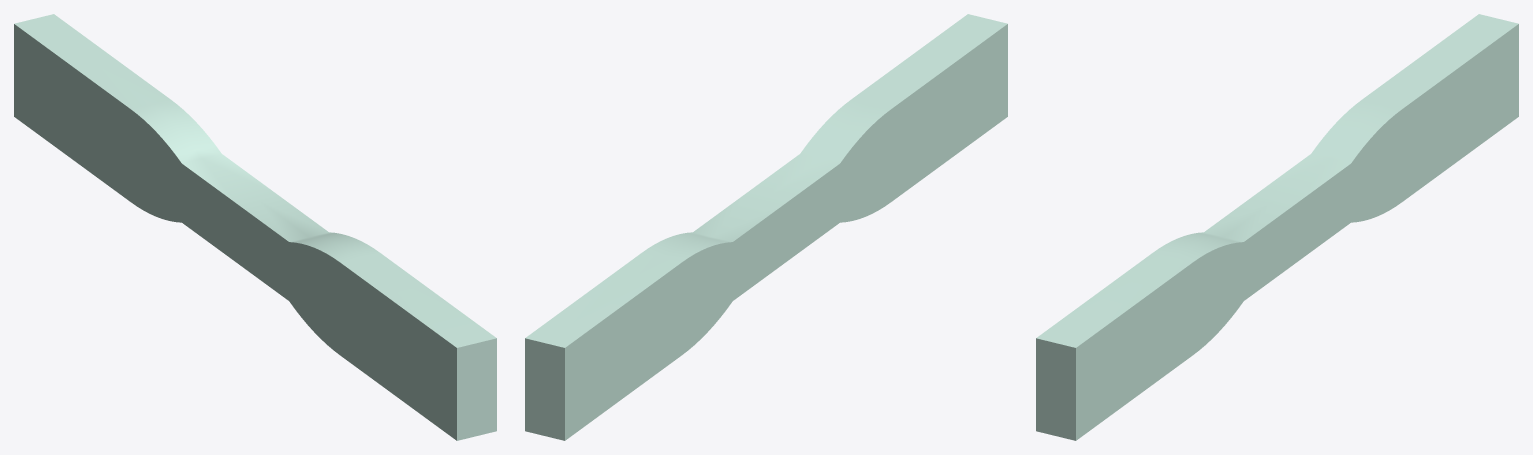
The picture shows the model from 3 angles, left to right: view 1: azimuth 30°, elevation 25°; view 2: azimuth 150°, elevation 25°; view 3: azimuth 330°, elevation 25°; orthographic projection.
Parts seen in each view (by area): view 1: Renderer Node; view 2: Renderer Node; view 3: Renderer Node.
Part boxes in pixels (x1,y1,x2,y2): Renderer Node: (14,14,496,440); Renderer Node: (525,14,1007,440); Renderer Node: (1036,14,1518,440).
Bounding box in the file's own units: 0.0781 × 0.1737 × 1.5.
